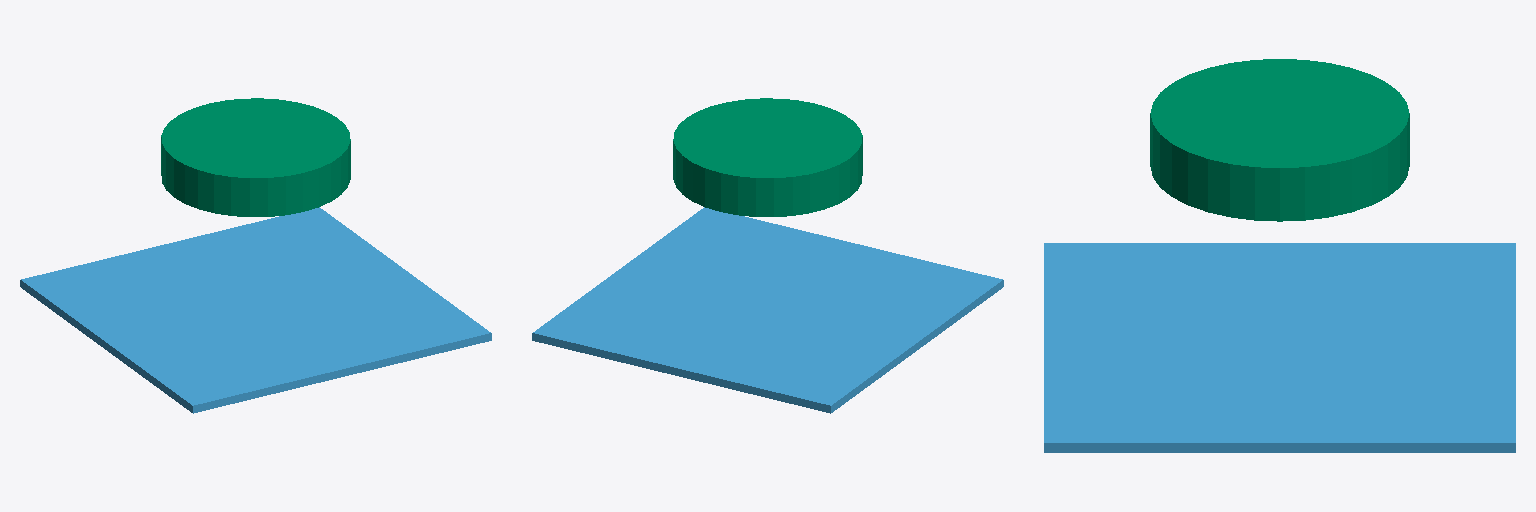
URDF robot description (motor):
<?xml version="1.0" encoding="utf-8"?>
<!-- =================================================================================== -->
<!-- |    This document was autogenerated by xacro from testing.urdf.xacro             | -->
<!-- |    EDITING THIS FILE BY HAND IS NOT RECOMMENDED                                 | -->
<!-- =================================================================================== -->
<robot name="motor">
  <link name="base_footprint"/>
  <link name="base_link">
    <visual>
      <origin rpy="0 0 0 " xyz="0 0 0.005"/>
      <geometry>
        <box size="0.4 0.4 0.01"/>
      </geometry>
    </visual>
    <collision>
      <origin rpy="0 0 0 " xyz="0 0 0.005"/>
      <geometry>
        <box size="0.4 0.4 0.01"/>
      </geometry>
    </collision>
    <inertial>
      <origin rpy="0 0 0 " xyz="0 0 0.005"/>
      <geometry>
        <box size="0.4 0.4 0.01"/>
      </geometry>
      <mass value="100"/>
      <inertia ixx="1.0265" ixy="0" ixz="0" iyy="1.3944999999999999" iyz="0" izz="2.1320000000000001"/>
    </inertial>
  </link>
  <joint name="base_joint" type="fixed">
    <parent link="base_footprint"/>
    <child link="base_link"/>
    <origin rpy="0 0 0" xyz="0 0 0"/>
  </joint>
  <link name="one_wheel_link">
    <visual>
      <origin rpy="0 0 0" xyz="0 0 0"/>
      <geometry>
        <cylinder length="0.05" radius="0.11"/>
      </geometry>
    </visual>
    <collision>
      <origin rpy="0 0 0" xyz="0 0 0"/>
      <geometry>
        <cylinder length="0.05" radius="0.11"/>
      </geometry>
    </collision>
    <inertial>
      <origin rpy="0 0 0" xyz="0 0 0"/>
      <geometry>
        <cylinder length="0.05" radius="0.11"/>
      </geometry>
      <mass value="3.5"/>
      <inertia ixx="0.0267" ixy="0" ixz="0" iyy="0.0267" iyz="0" izz="0.0506"/>
    </inertial>
  </link>
  <!-- <xacro:wheel name="two"/>
  <xacro:include filename="$(find gazebo_ros_motors)/xacro/joint_motor.xacro"/>
  <xacro:joint_motor motor_name="one_motor" parent_link="base_link" child_link="one_wheel_link">
    <xacro:property name="params_yaml" value="$(find gazebo_ros_motors)/params/joint_motor.yaml"/>
    <origin xyz="0 0 0.2" rpy="0 0 0"/>
  </xacro:joint_motor>
  <xacro:joint_motor motor_name="two_motor" parent_link="base_link" child_link="two_wheel_link">
    <xacro:property name="params_yaml" value="$(find gazebo_ros_motors)/params/joint_motor.yaml"/>
    <origin xyz="0 0 0.4" rpy="0 0 0"/>
  </xacro:joint_motor> -->
  <joint name="dc_motor" type="continuous">
    <parent link="base_link"/>
    <child link="one_wheel_link"/>
    <origin rpy="0 0 0" xyz="0 0 0.2"/>
    <axis xyz="0 0 1"/>
    <dynamics damping="0.005" friction="0.01"/>
  </joint>
  <gazebo reference="dc_motor">
    <provideFeedback>true</provideFeedback>
  </gazebo>
  <gazebo>
    <plugin filename="libgazebo_ros_dc_motor.so" name="motor_plugin">
      <motor_shaft_joint>dc_motor</motor_shaft_joint>
      <motor_wrench_frame>one_wheel_link</motor_wrench_frame>
      <command_topic>dc_motor/command</command_topic>
      <velocity_topic>dc_motor/velocity</velocity_topic>
      <encoder_topic>dc_motor/encoder</encoder_topic>
      <current_topic>dc_motor/current</current_topic>
      <supply_topic>dc_motor/supply_voltage</supply_topic>
      <publish_encoder>True</publish_encoder>
      <publish_velocity>True</publish_velocity>
      <publish_current>False</publish_current>
      <publish_motor_joint_state>True</publish_motor_joint_state>
      <update_rate>100.0</update_rate>
      <motor_nominal_voltage>24.0</motor_nominal_voltage>
      <moment_of_inertia>0.001</moment_of_inertia>
      <armature_damping_ratio>0.0001</armature_damping_ratio>
      <electromotive_force_constant>0.03</electromotive_force_constant>
      <electric_resistance>13.8</electric_resistance>
      <electric_inductance>0.001</electric_inductance>
      <gear_ratio>72.0</gear_ratio>
      <encoder_ppr>111</encoder_ppr>
      <rosDebugLevel>Debug</rosDebugLevel>
    </plugin>
  </gazebo>
</robot>

--- Facts derived from the render (not from the file) ---
The picture shows the robot from 3 angles, left to right: view 1: azimuth 30°, elevation 25°; view 2: azimuth 150°, elevation 25°; view 3: azimuth 270°, elevation 25°; orthographic projection.
Robot: motor — 3 links, 2 joints (1 continuous, 1 fixed); root link base_footprint; default pose: all joints at 0.
Links seen in each view (by area): view 1: base_link, one_wheel_link; view 2: base_link, one_wheel_link; view 3: base_link, one_wheel_link.
Link boxes in pixels (x1,y1,x2,y2): base_link: (20, 207, 491, 413); one_wheel_link: (161, 98, 350, 216); base_link: (532, 207, 1003, 413); one_wheel_link: (673, 98, 862, 216); base_link: (1044, 243, 1515, 452); one_wheel_link: (1150, 59, 1409, 221).
Bounding box of the posed robot: 0.4 × 0.4 × 0.225 m (x, y, z).
Geometry: primitives only (box / cylinder / sphere), no mesh files.